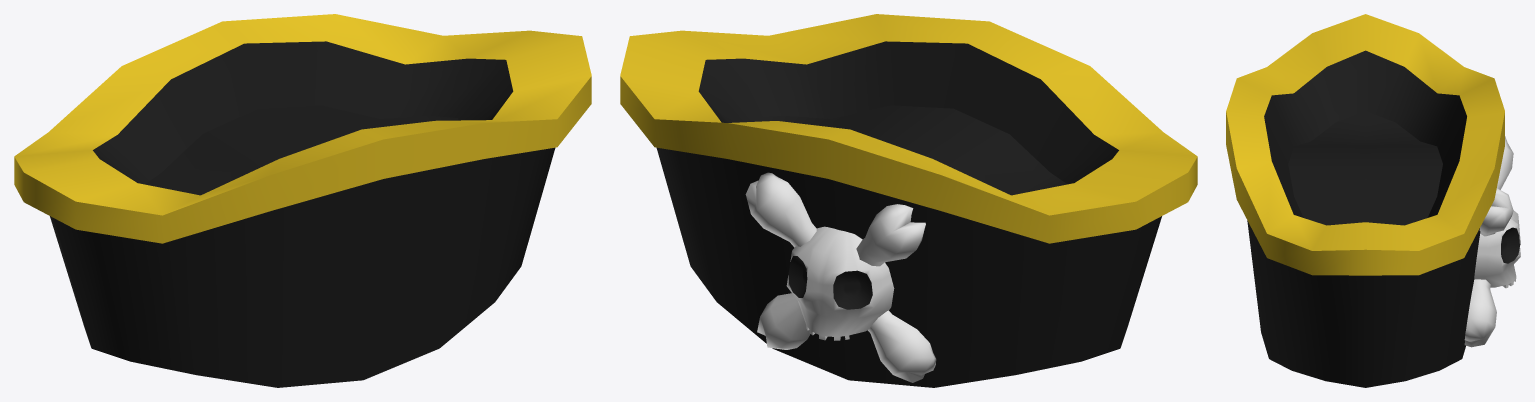
File: pirate_hat.fbx
3 renders of one model, left to right at view 1: azimuth 30°, elevation 25°; view 2: azimuth 150°, elevation 25°; view 3: azimuth 270°, elevation 25°, orthographic. The views are drawn at different scales.
Visible parts, largest first — view 1: Cylinder; view 2: Cylinder; view 3: Cylinder.
Part boxes in pixels (box(x1,y1,x2,y2)): Cylinder: box(14, 14, 591, 387); Cylinder: box(620, 14, 1197, 387); Cylinder: box(1226, 14, 1520, 387).
Size of the model in its own units: 437 by 191 by 231.
